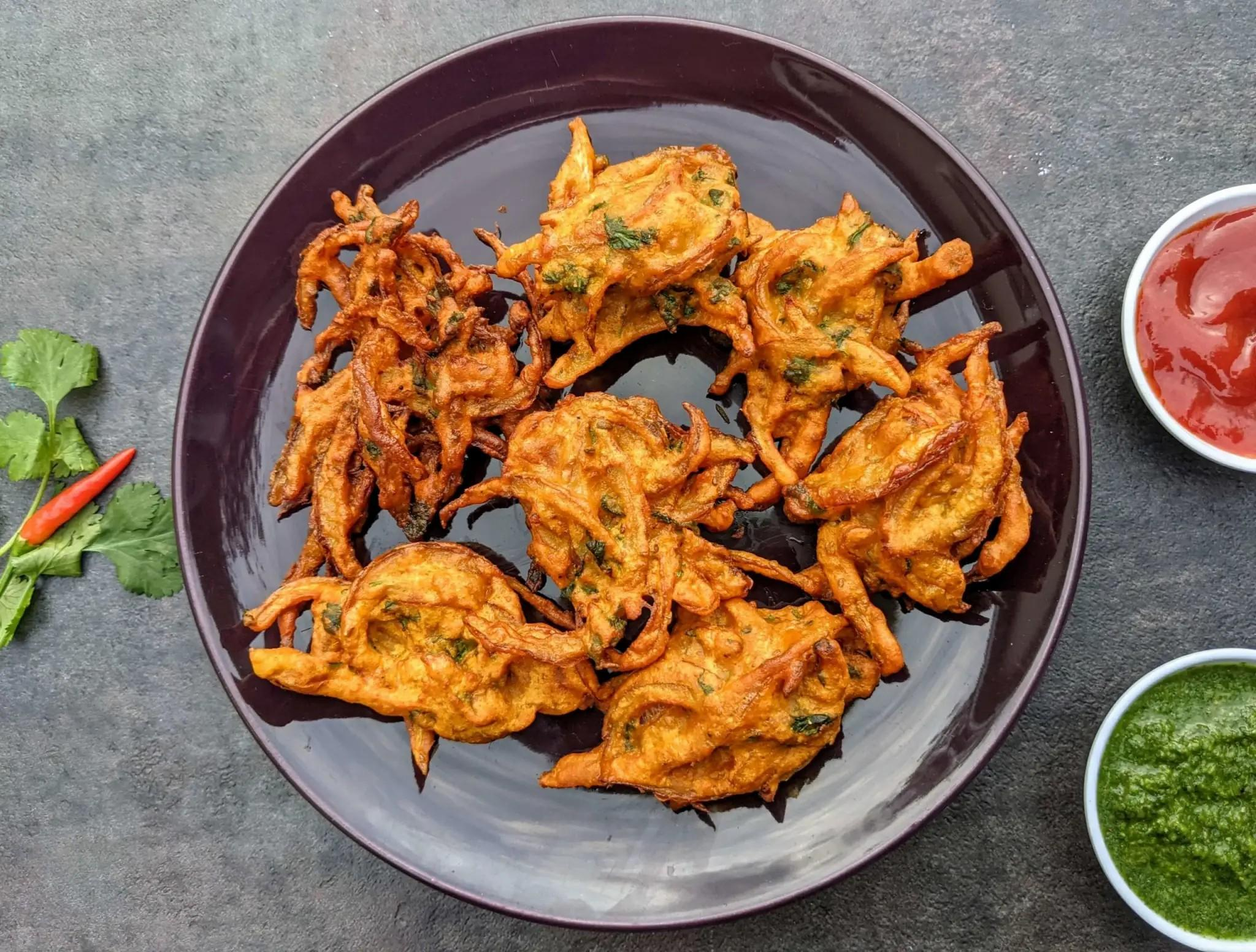GreenChutney: (1100, 665, 1256, 945)
OnionPakoda: (244, 113, 1040, 810)
